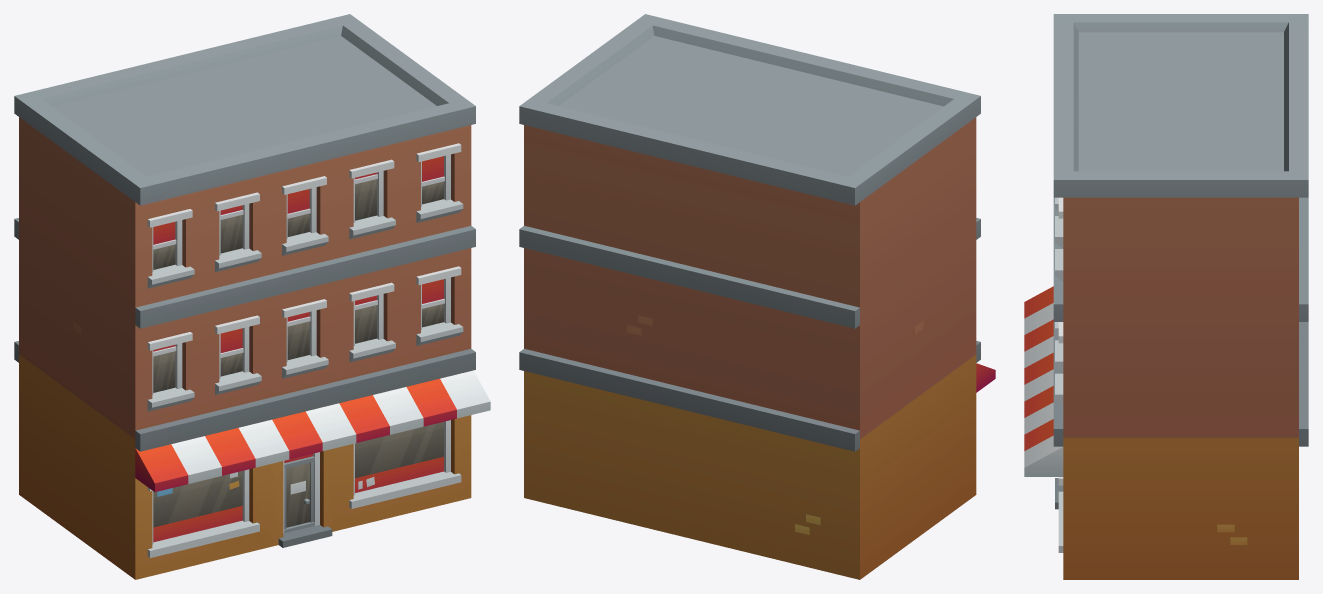
File: building-apartment.glb
3 views of the same model, side by side, from view 1: azimuth 30°, elevation 25°; view 2: azimuth 150°, elevation 25°; view 3: azimuth 270°, elevation 25° (orthographic).
Parts seen in each view (by area): view 1: building_E_withoutBase; view 2: building_E_withoutBase; view 3: building_E_withoutBase.
Part boxes in pixels (<box>): building_E_withoutBase: <box>14,14,490,579</box>; building_E_withoutBase: <box>519,14,995,579</box>; building_E_withoutBase: <box>1024,14,1308,579</box>.
Bounding box in the file's own units: 12.49 × 14 × 9.02.
Materials: 1 (1 with a texture image).
